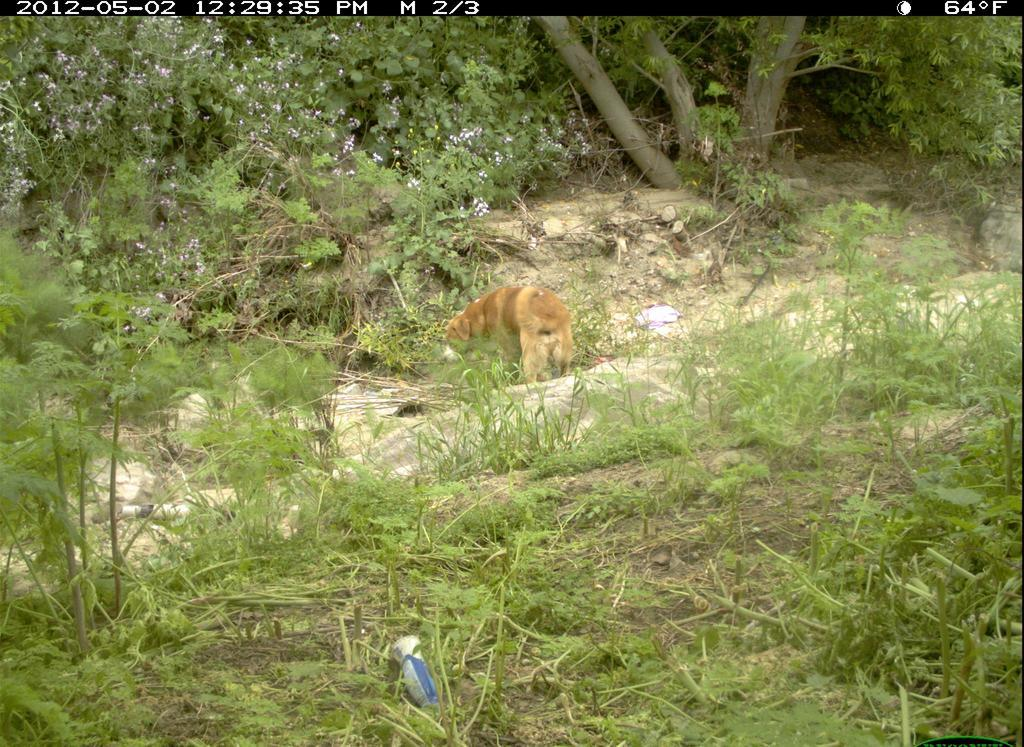dog: (440, 287, 587, 401)
